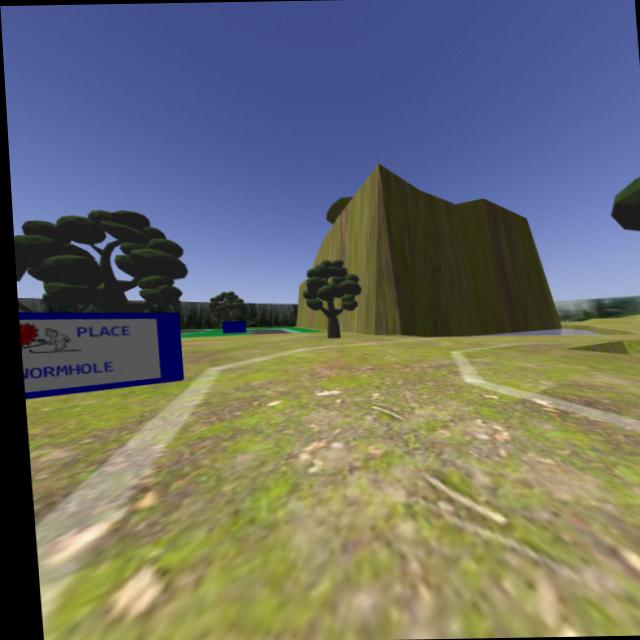clueboard: (18, 304, 188, 398)
